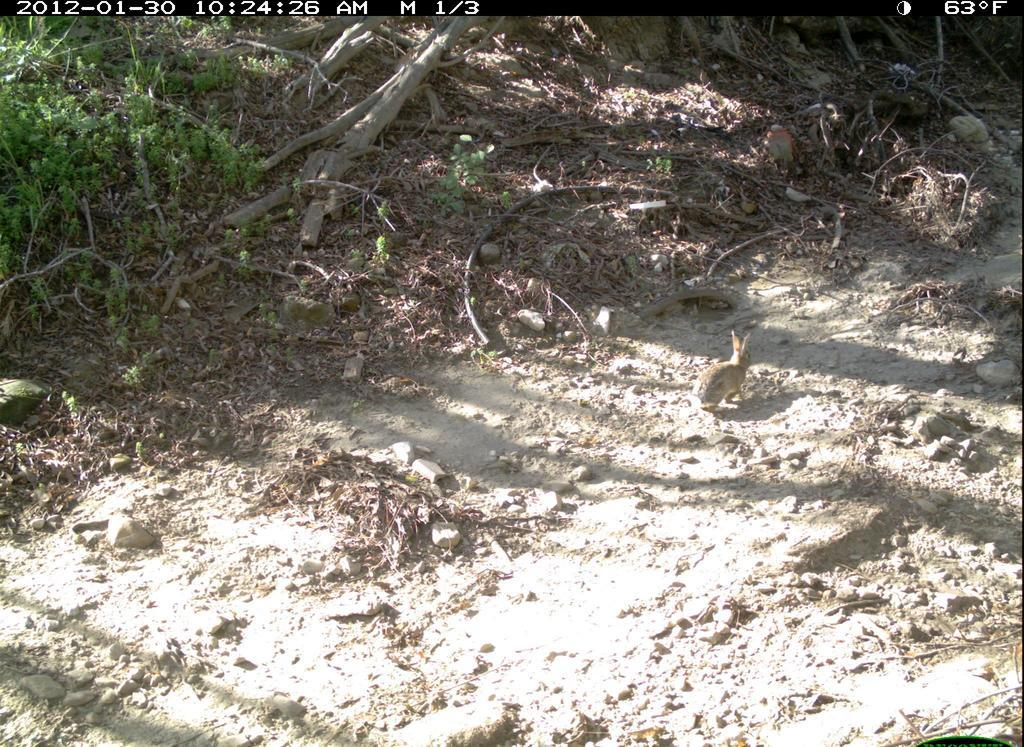rabbit: (674, 312, 770, 422)
